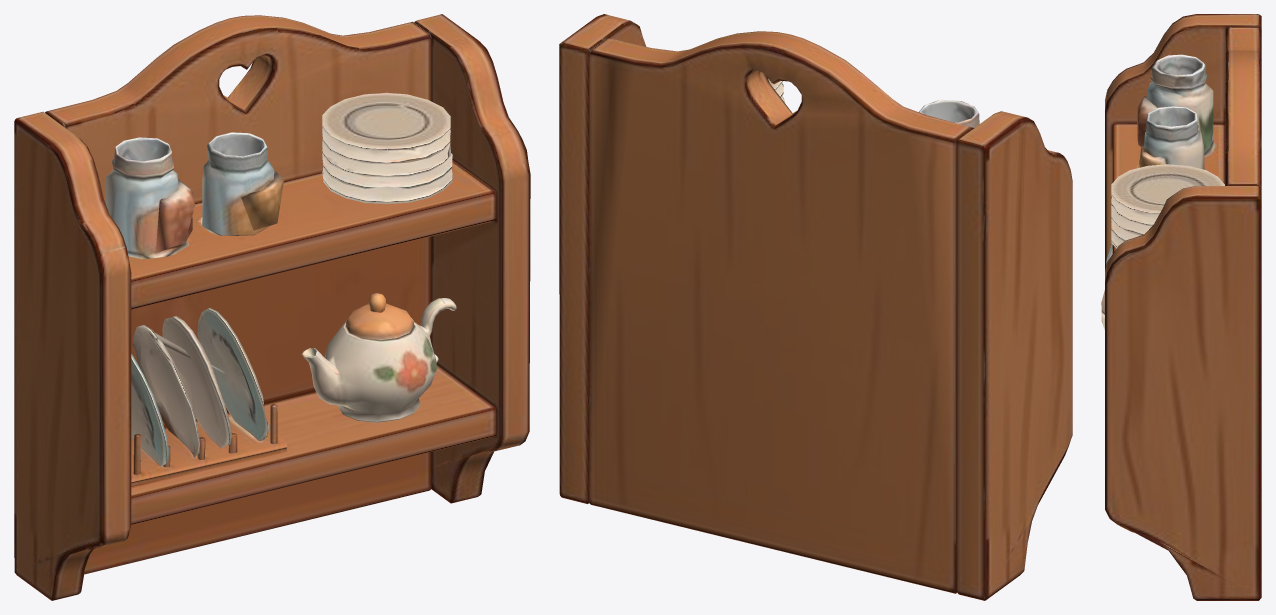
File: item-kitchenShelf.glb
3 renders of one model, left to right at view 1: azimuth 30°, elevation 25°; view 2: azimuth 150°, elevation 25°; view 3: azimuth 270°, elevation 25°, orthographic. The views are drawn at different scales.
Size of the model in its own units: 0.8501 by 0.9531 by 0.3101.
Materials: 1 (1 with a texture image).
